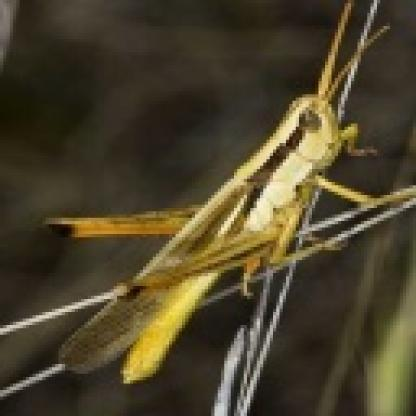grasshopper: (45, 0, 391, 386)
